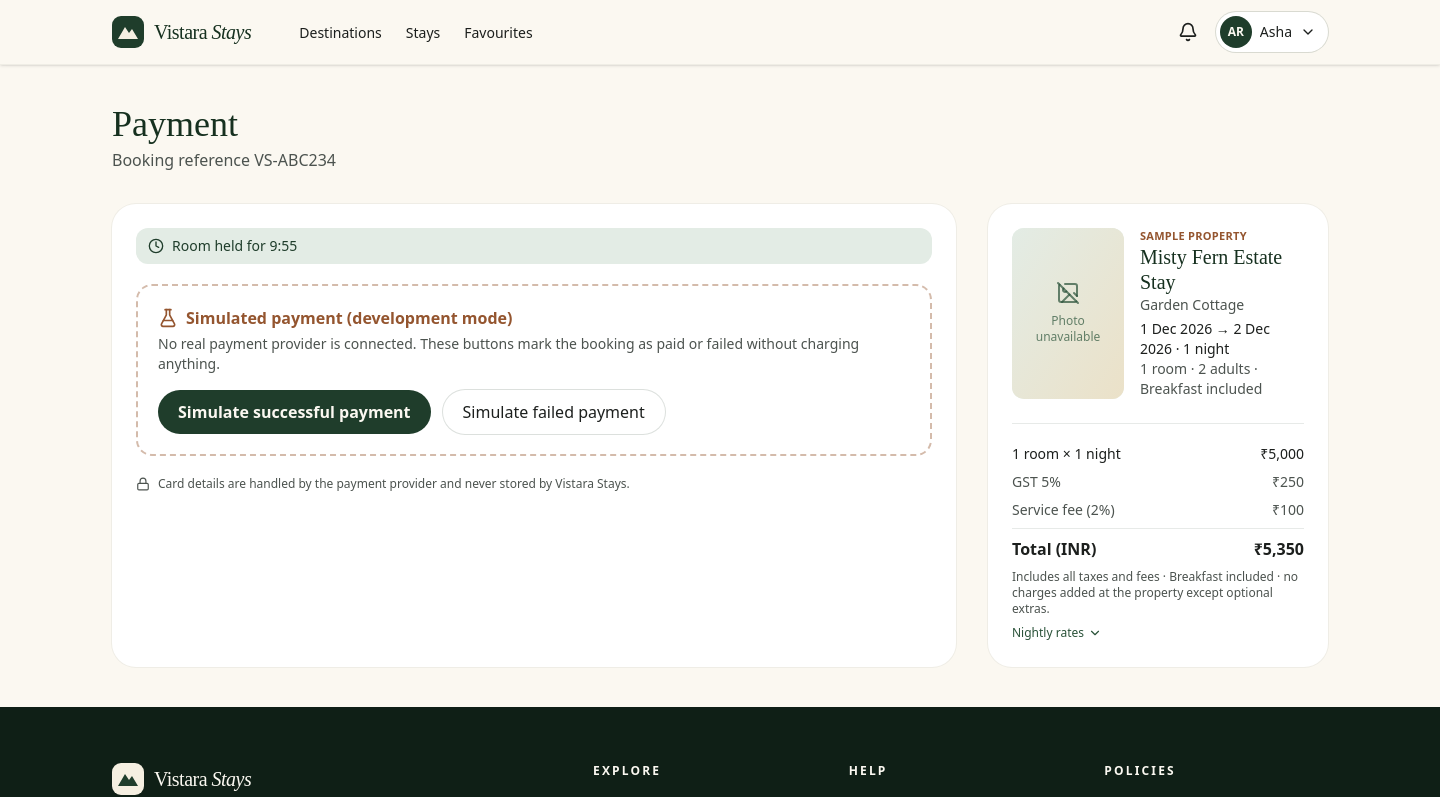
Scenario: payment and trips › confirms with a clearly labelled simulated payment
Expected: the text "Simulated payment (development mode)" is shown, [158, 307, 512, 329]
Click the button "Simulate successful payment" at (294, 412), box [158, 390, 431, 434]
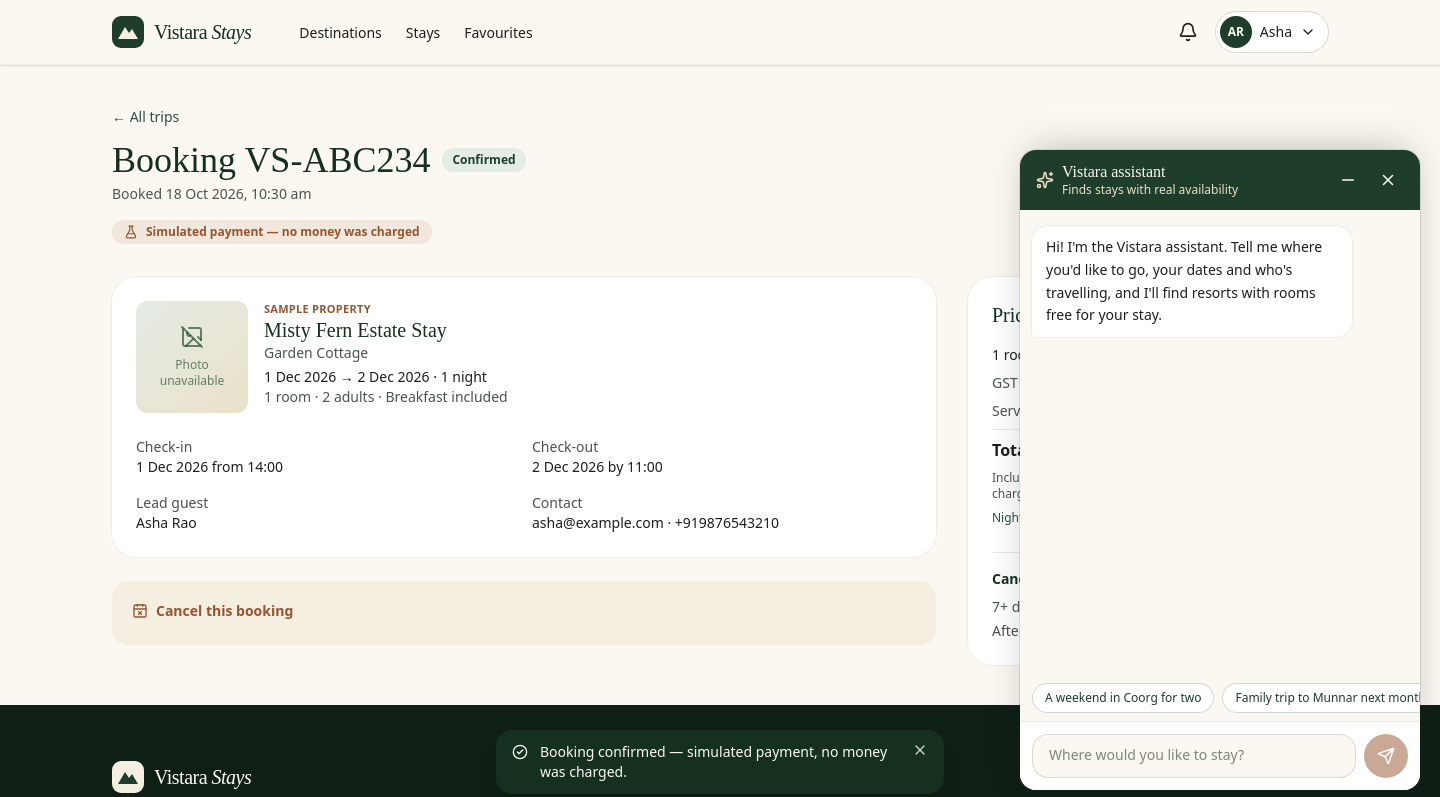
Expected: the text "Simulated payment — no money was charged" is shown, [112, 220, 432, 244]
